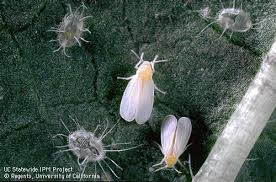Tobacco Whitefly: (114, 52, 156, 123), (155, 109, 195, 175)
